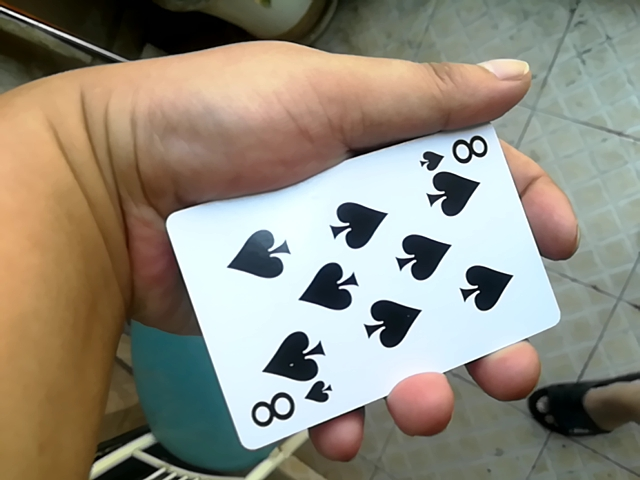ht 8: (153, 130, 556, 456)
